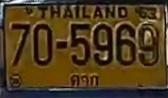0: (33, 23, 52, 65)
5: (70, 23, 90, 65)
6: (115, 23, 135, 65)
7: (11, 23, 29, 65)
9: (138, 23, 159, 65), (93, 23, 112, 65)
TAK: (69, 72, 101, 87)
